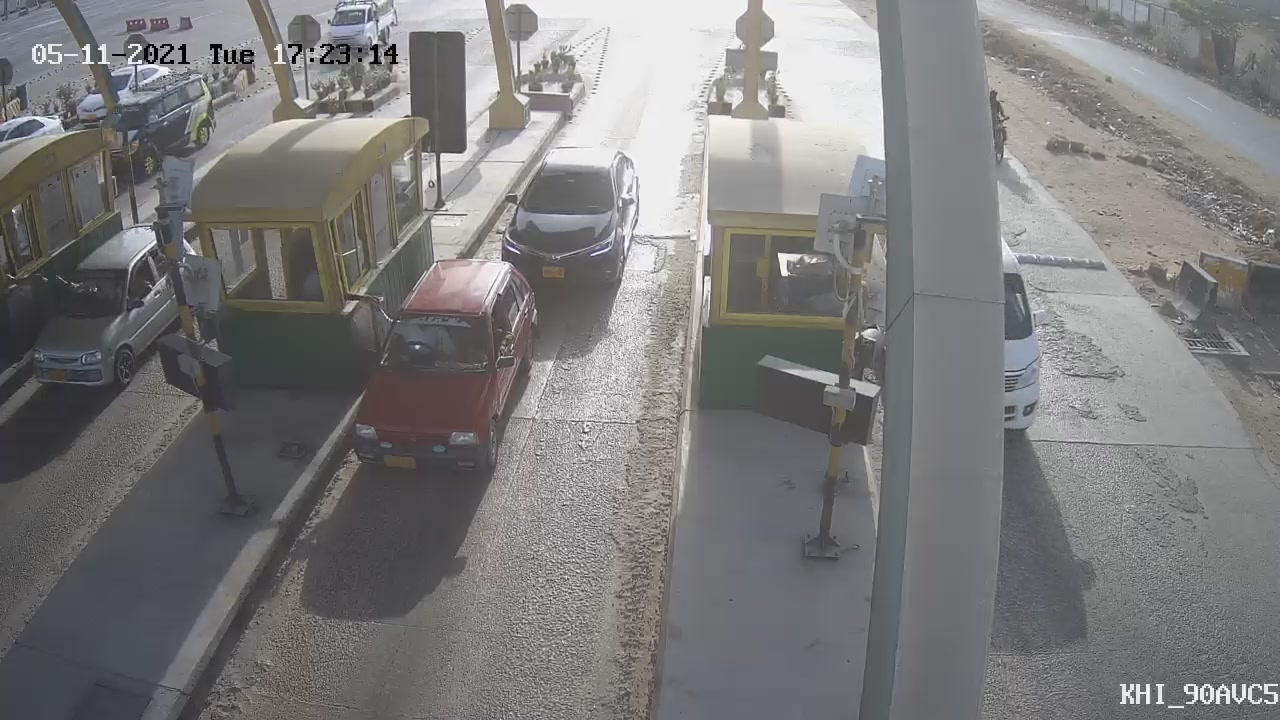F1: (314, 242, 564, 494), (481, 122, 657, 318)
